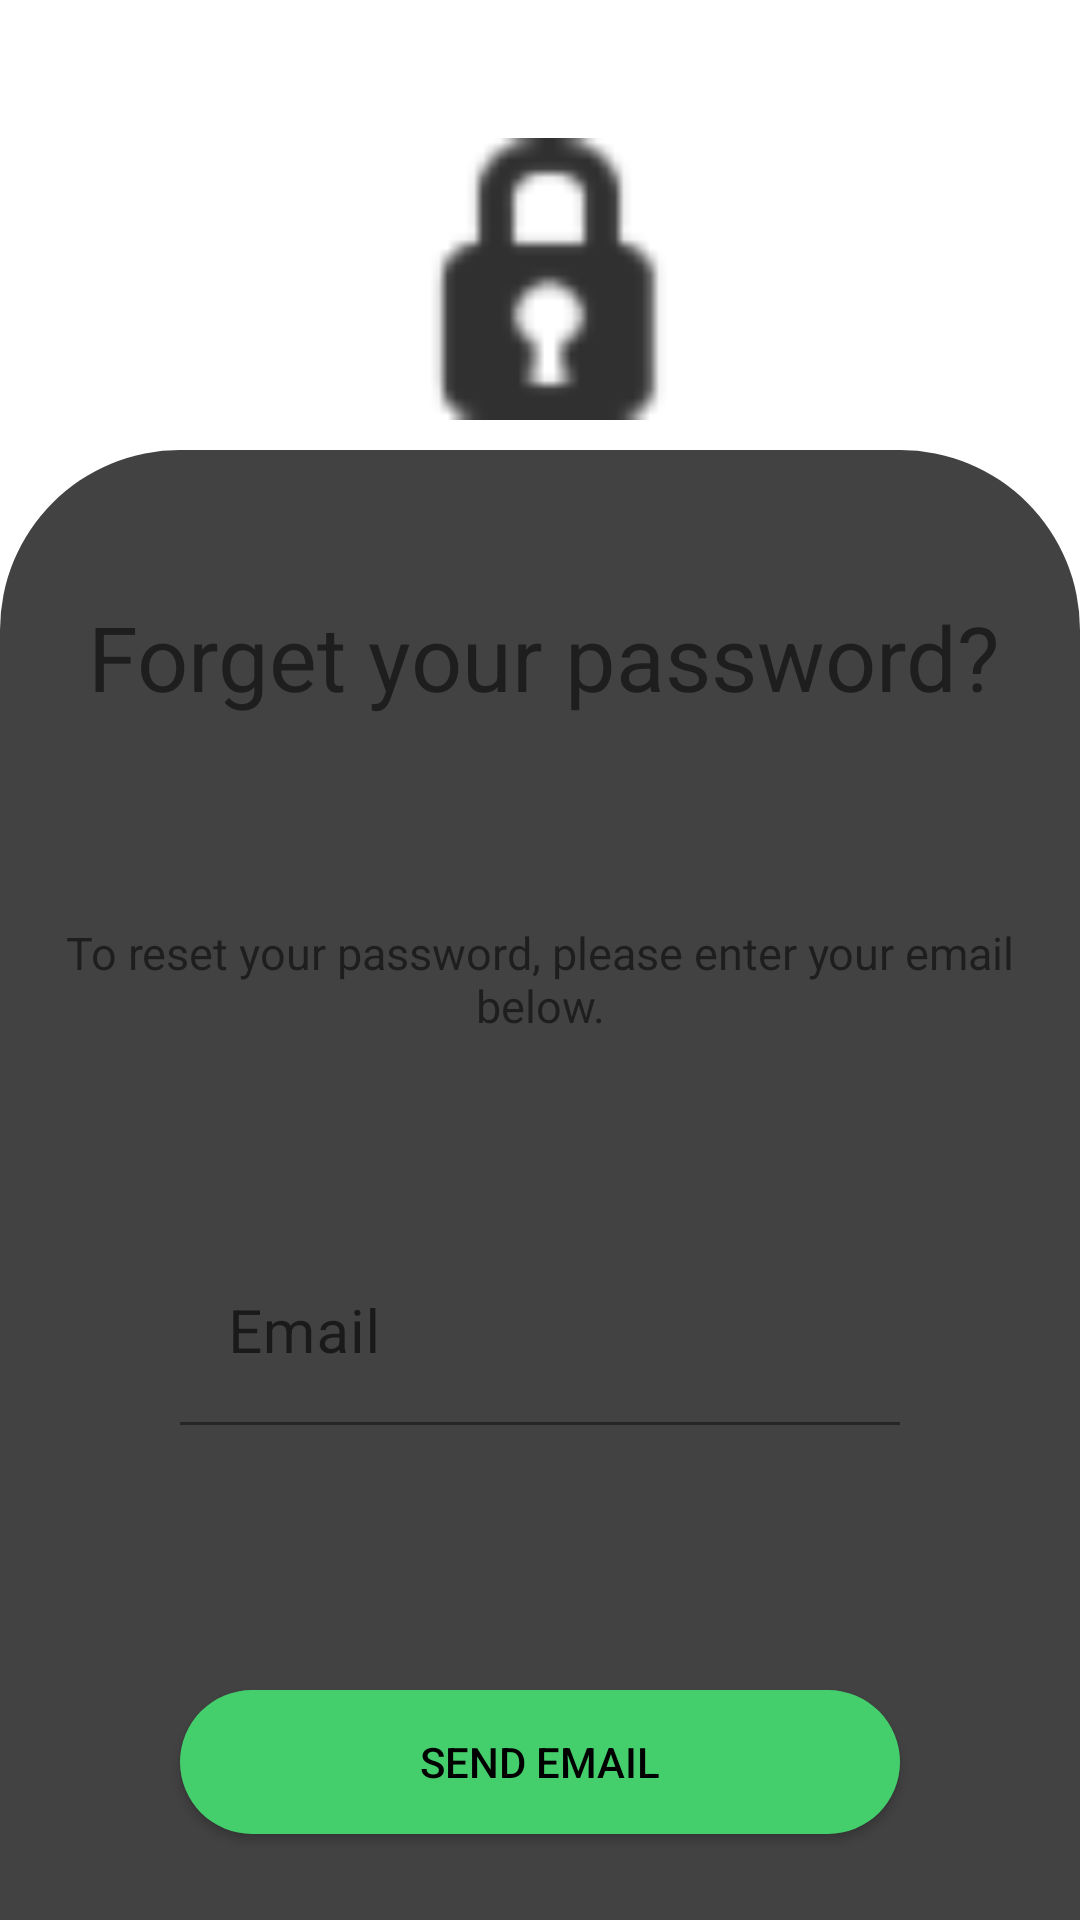

Icons on this 1080px×1920px Android screen, each with its box as bbox=[x1, y1, x2, y2]:
secure: bbox=[437, 138, 659, 420]
